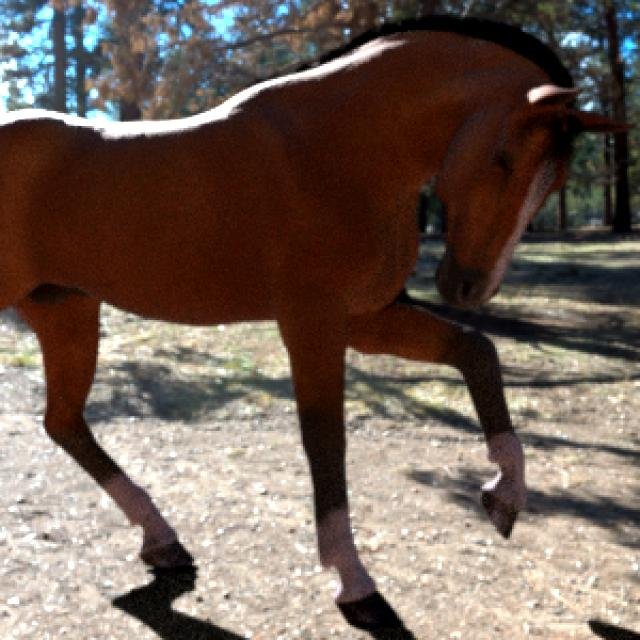horse: (0, 19, 616, 639)
